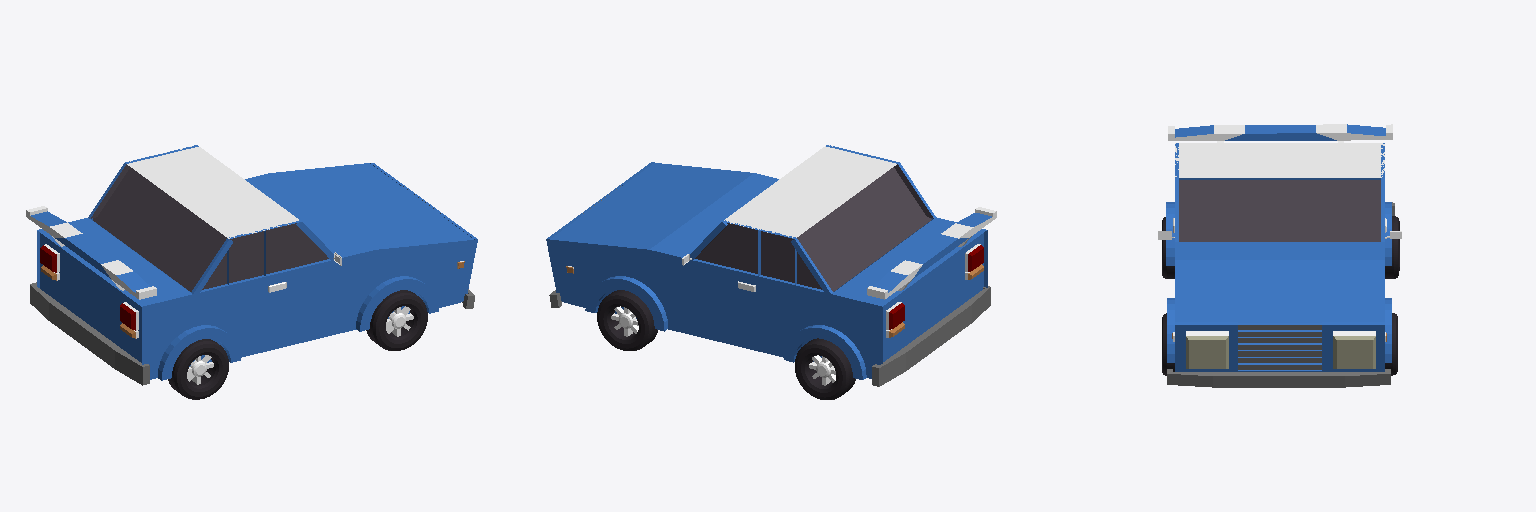
File: car2.obj
The picture shows the model from 3 angles: view 1: azimuth 30°, elevation 25°; view 2: azimuth 150°, elevation 25°; view 3: azimuth 270°, elevation 25°; orthographic projection.
Visible parts, largest first — view 1: Cube.1, Cube.5_1, Cube.5, Tube_2, Tube_1, Tube3, Tube4; view 2: Cube.1, Cube.5_1, Cube.5, Tube_3, Tube_4, Tube, Tube2; view 3: Cube.1, Cube.5, Cube.4_2, Cube.3_1, Cube.2_1.
Part boxes in pixels (x1,y1,x2,y2): Cube.1: (37,145,477,379); Cube.5_1: (30,282,149,385); Cube.5: (26,206,156,299); Tube_2: (366,290,427,350); Tube_1: (168,339,228,399); Tube3: (158,325,240,380); Tube4: (356,276,438,331); Cube.1: (546,145,987,378); Cube.5_1: (872,286,990,386); Cube.5: (867,207,996,299); Tube_3: (795,338,855,399); Tube_4: (597,290,657,350); Tube: (585,276,667,331); Tube2: (784,325,866,379); Cube.1: (1175,143,1384,371); Cube.5: (1168,124,1392,142); Cube.4_2: (1167,369,1390,387); Cube.3_1: (1186,331,1228,368); Cube.2_1: (1333,331,1375,368).
Bounding box in the file's own units: 56.81 × 23.31 × 34.76.